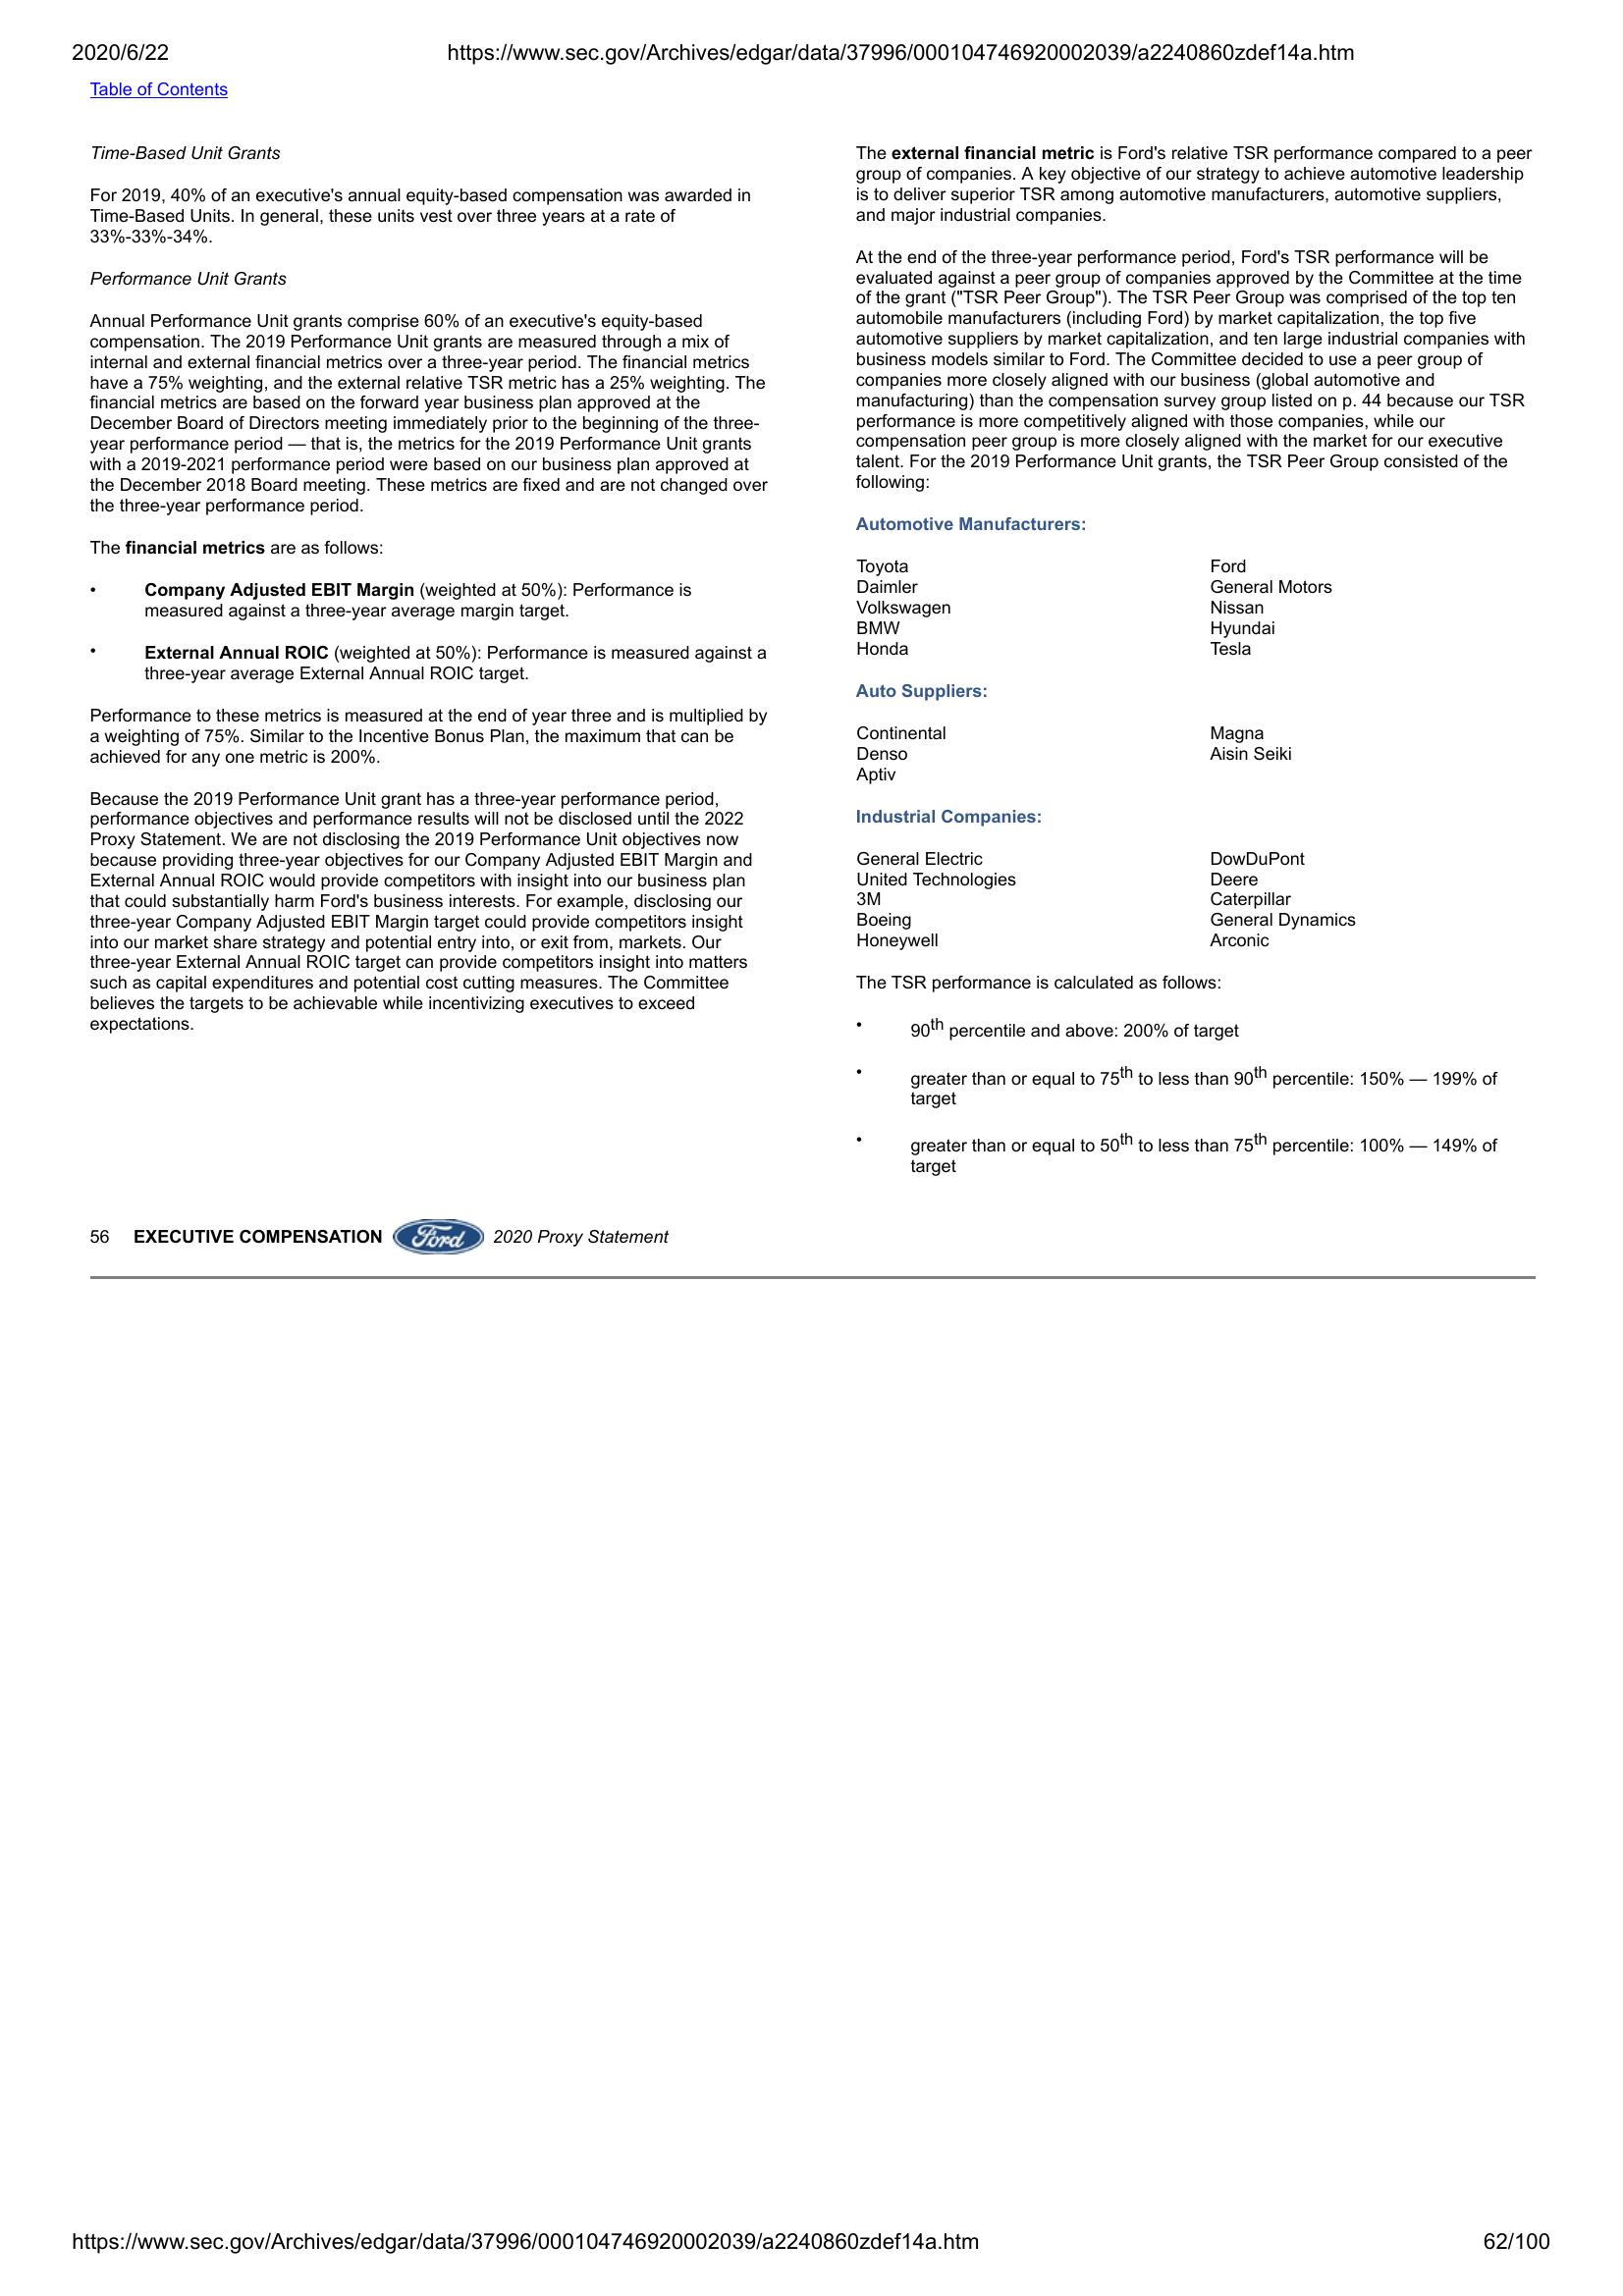table: (852, 841, 1367, 957), (854, 551, 1337, 662), (852, 716, 1305, 788)
